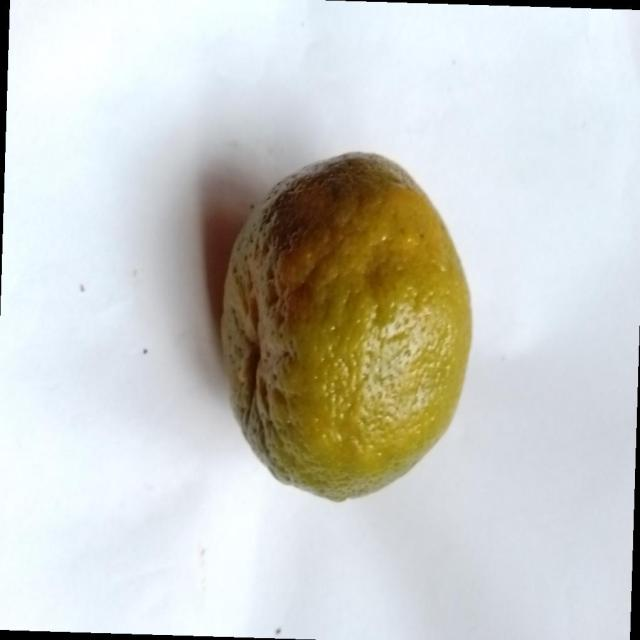fresh orange: (218, 149, 473, 502)
